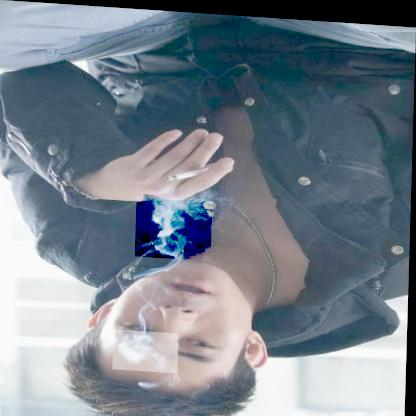smoke: (136, 193, 214, 258), (115, 327, 180, 371)
